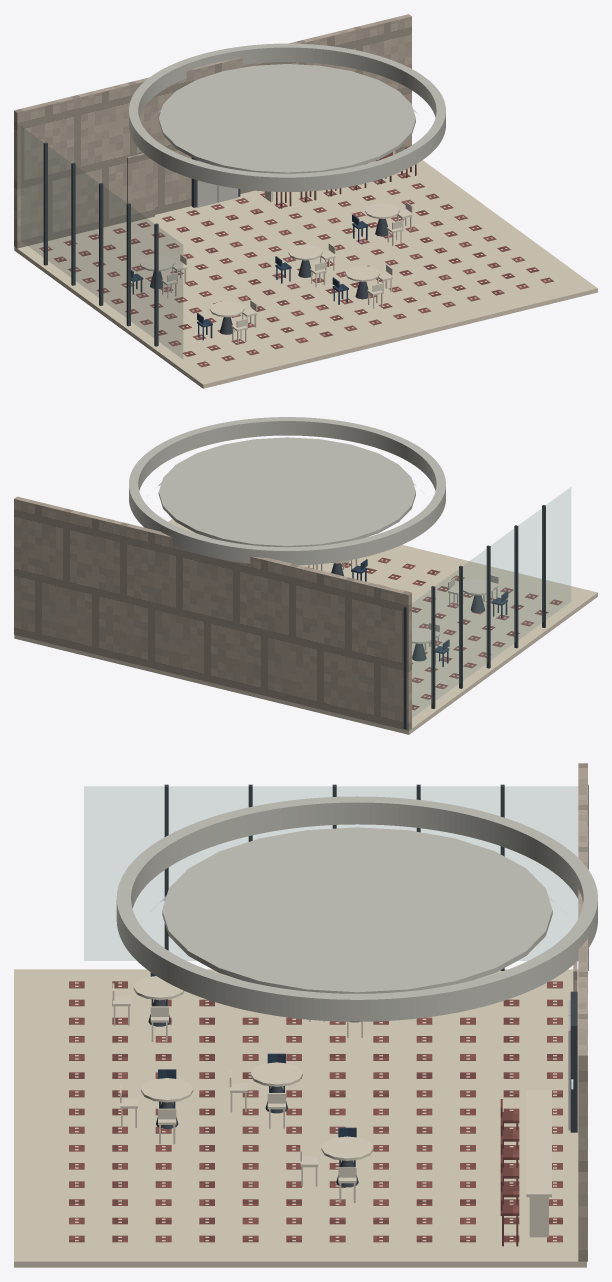
The model's file is Observed-Ring-Display-Room.glb.
The picture shows the model from 3 angles, top to bottom: view 1: azimuth 30°, elevation 25°; view 2: azimuth 150°, elevation 25°; view 3: azimuth 270°, elevation 25°; orthographic projection. The views are drawn at different scales.
Visible parts, largest first — view 1: Public_room_floor, Faceted_ring_display__Ivory ring casing, Public_room_shell__Public room warm plaster, Public_room_shell__Glazing_clear, Public_room_shell__Red inset ceramic tiles, Public_room_shell__Public room dark aluminium, Tables_chairs_and_stools__Ivory chair paint, Public_room_shell__Ivory chair paint, Tables_chairs_and_stools__Public room dark aluminium, Public_room_shell__Ivory ring casing; view 2: Public_room_shell__Public room warm plaster, Faceted_ring_display__Ivory ring casing, Public_room_floor, Public_room_shell__Glazing_clear, Public_room_shell__Public room dark aluminium, Public_room_shell__Red inset ceramic tiles, Tables_chairs_and_stools__Ivory chair paint, Tables_chairs_and_stools__Public room dark aluminium; view 3: Public_room_floor, Faceted_ring_display__Ivory ring casing, Public_room_shell__Glazing_clear, Public_room_shell__Red inset ceramic tiles, Tables_chairs_and_stools__Ivory chair paint, Public_room_shell__Public room warm plaster, Public_room_shell__Ivory chair paint, Public_room_shell__Public room dark aluminium, Tables_chairs_and_stools__Red inset ceramic tiles, Tables_chairs_and_stools__Public room dark aluminium.
Boxes of the visible parts, x1=… form: Public_room_floor: x1=14, y1=160, x2=597, y2=388; Faceted_ring_display__Ivory ring casing: x1=129, y1=43, x2=445, y2=191; Public_room_shell__Public room warm plaster: x1=14, y1=14, x2=411, y2=248; Public_room_shell__Glazing_clear: x1=21, y1=126, x2=182, y2=358; Public_room_shell__Red inset ceramic tiles: x1=39, y1=172, x2=553, y2=367; Public_room_shell__Public room dark aluminium: x1=43, y1=142, x2=240, y2=346; Tables_chairs_and_stools__Ivory chair paint: x1=140, y1=151, x2=399, y2=317; Public_room_shell__Ivory chair paint: x1=42, y1=174, x2=550, y2=365; Tables_chairs_and_stools__Public room dark aluminium: x1=150, y1=218, x2=389, y2=334; Public_room_shell__Ivory ring casing: x1=196, y1=160, x2=238, y2=207; Public_room_shell__Public room warm plaster: x1=14, y1=496, x2=411, y2=730; Faceted_ring_display__Ivory ring casing: x1=129, y1=417, x2=445, y2=565; Public_room_floor: x1=14, y1=519, x2=597, y2=734; Public_room_shell__Glazing_clear: x1=412, y1=487, x2=570, y2=717; Public_room_shell__Public room dark aluminium: x1=403, y1=505, x2=545, y2=729; Public_room_shell__Red inset ceramic tiles: x1=305, y1=557, x2=562, y2=710; Tables_chairs_and_stools__Ivory chair paint: x1=332, y1=560, x2=495, y2=643; Tables_chairs_and_stools__Public room dark aluminium: x1=331, y1=563, x2=485, y2=661; Public_room_floor: x1=14, y1=969, x2=586, y2=1267; Faceted_ring_display__Ivory ring casing: x1=116, y1=796, x2=597, y2=1021; Public_room_shell__Glazing_clear: x1=84, y1=786, x2=577, y2=960; Public_room_shell__Red inset ceramic tiles: x1=69, y1=981, x2=562, y2=1242; Tables_chairs_and_stools__Ivory chair paint: x1=133, y1=976, x2=551, y2=1237; Public_room_shell__Public room warm plaster: x1=573, y1=763, x2=587, y2=1261; Public_room_shell__Ivory chair paint: x1=75, y1=982, x2=556, y2=1241; Public_room_shell__Public room dark aluminium: x1=164, y1=784, x2=588, y2=1132; Tables_chairs_and_stools__Red inset ceramic tiles: x1=500, y1=1099, x2=519, y2=1246; Tables_chairs_and_stools__Public room dark aluminium: x1=148, y1=999, x2=359, y2=1187.
Bounding box in the file's own units: 14 × 4.99 × 11.82.
12 materials, 4 textured.
